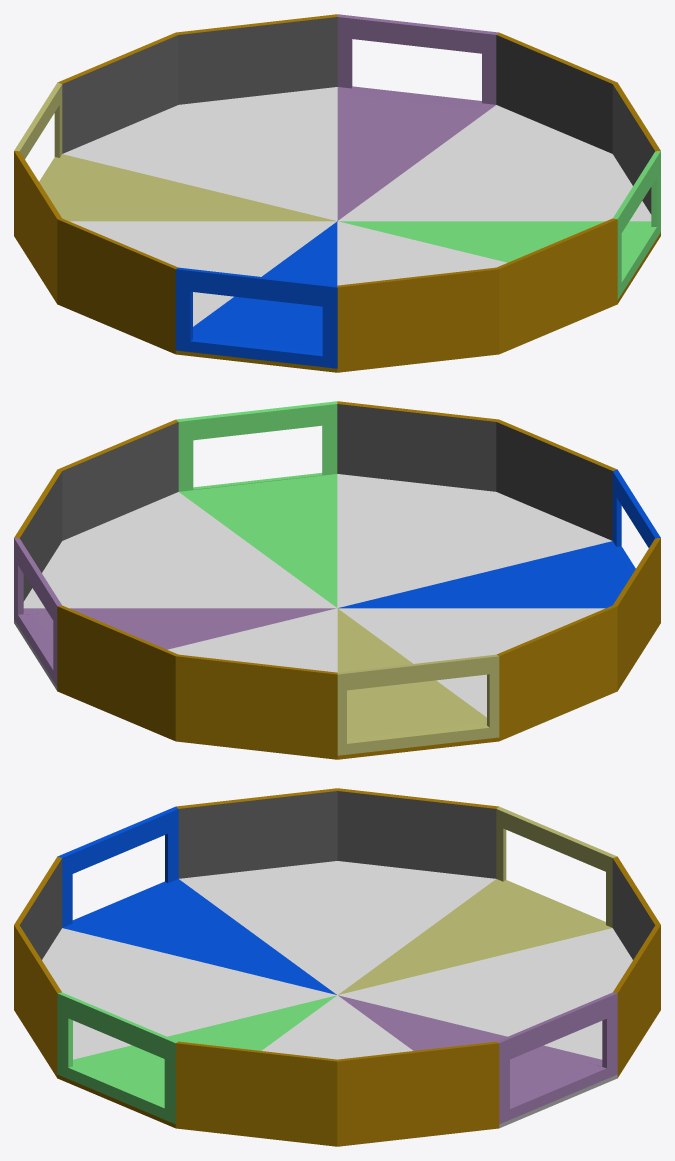
Rendered from ArenaColor.fbx.
3 renders of one model, top to bottom at view 1: azimuth 30°, elevation 25°; view 2: azimuth 150°, elevation 25°; view 3: azimuth 270°, elevation 25°, orthographic.
Parts seen in each view (by area): view 1: pCylinder3; view 2: pCylinder3; view 3: pCylinder3.
Boxes of the visible parts, <box> form: pCylinder3: <box>14,14,660,372</box>; pCylinder3: <box>14,401,660,759</box>; pCylinder3: <box>14,788,660,1146</box>.
Bounding box in the file's own units: 72.49 × 10.53 × 72.49.
